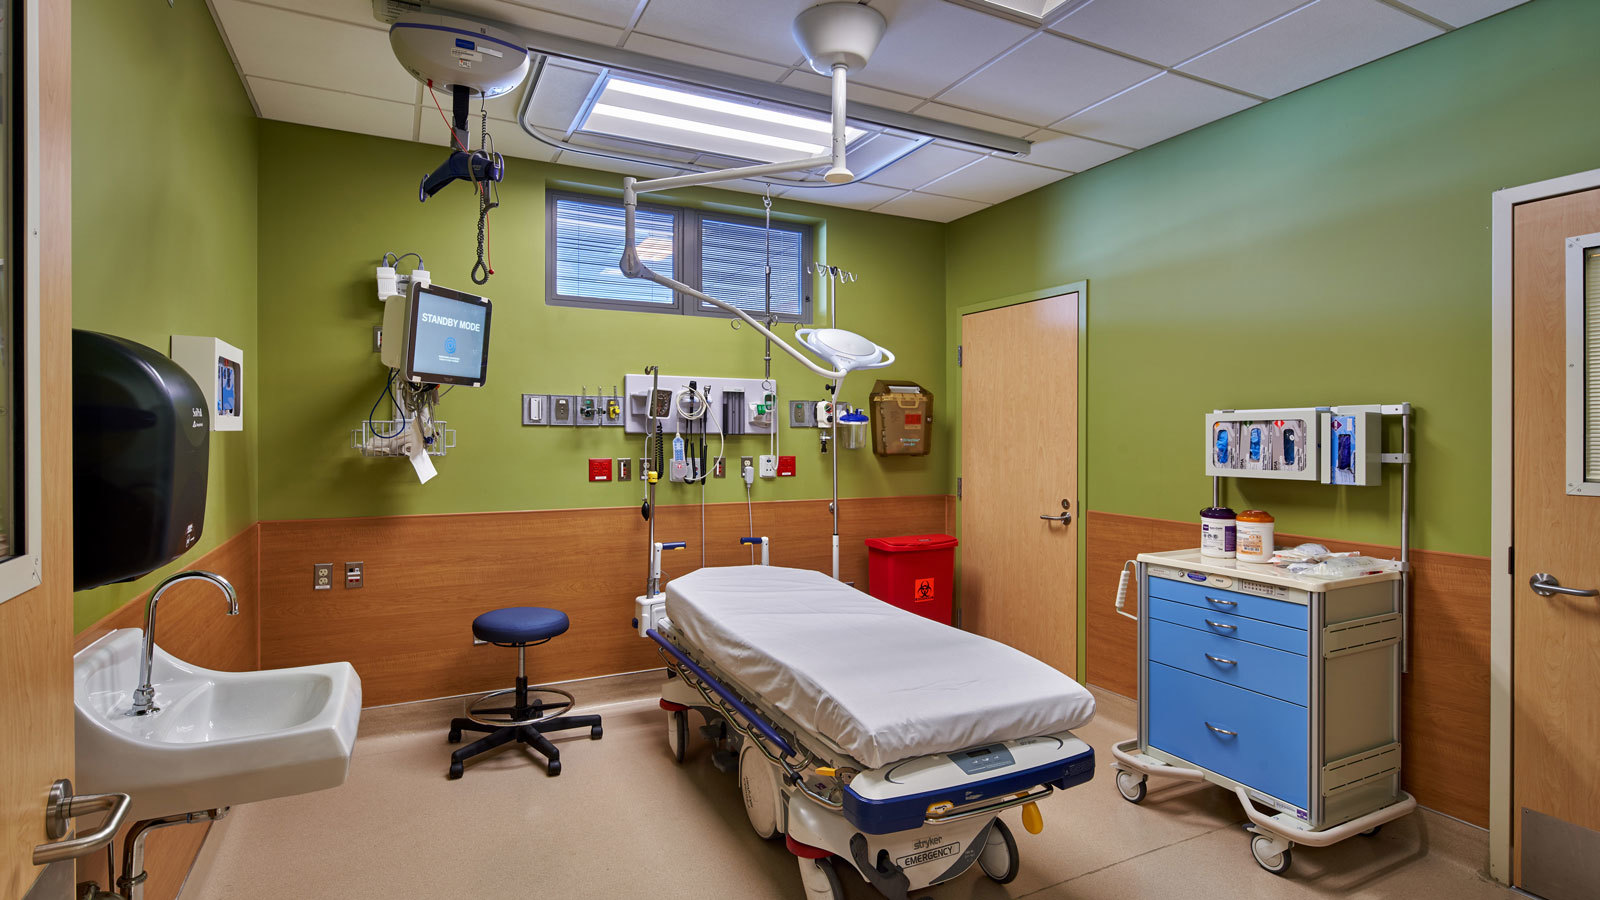bedrail: (642, 641, 842, 812)
bedside_monitor: (405, 281, 495, 392)
chair: (443, 602, 605, 784)
dispenser: (69, 318, 212, 595), (176, 333, 245, 427), (1326, 414, 1366, 487), (1273, 416, 1308, 477), (1238, 416, 1273, 477), (1204, 419, 1238, 479)
door_handle: (29, 778, 131, 873), (1527, 571, 1600, 608), (1038, 507, 1073, 530)
faucet: (125, 565, 246, 721)
handle: (1201, 722, 1240, 737), (1202, 651, 1241, 666), (1203, 618, 1242, 633), (1203, 593, 1242, 608)
hospital_bed: (632, 538, 1095, 900)
iv_pole: (803, 257, 856, 588)
medical_waste_container: (864, 526, 962, 630), (876, 378, 936, 462)
sink: (73, 620, 366, 826)
utility_cart: (1112, 533, 1421, 874)
